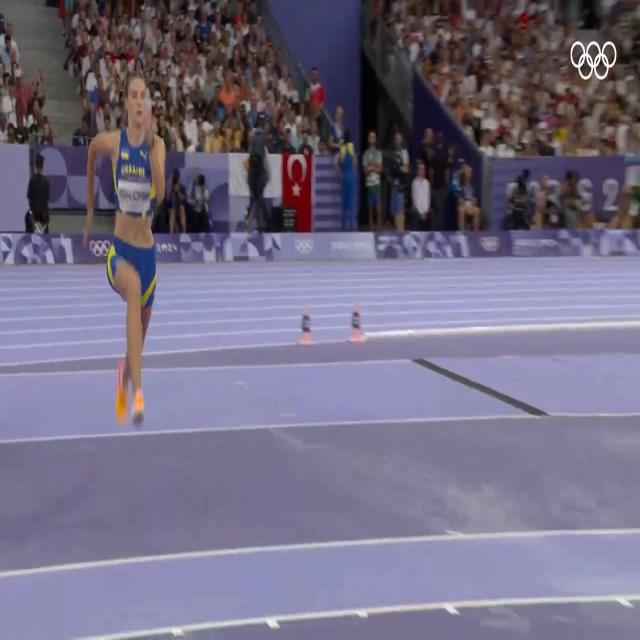run: (86, 71, 170, 427)
